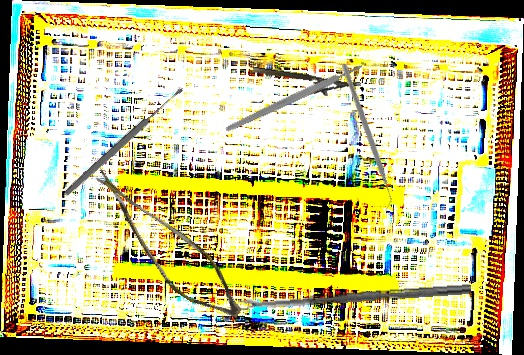Chopper: (288, 63, 442, 212)
Micro Scissor: (66, 168, 263, 328)
Needle Holder: (250, 65, 361, 104)
Scalpel Handle: (224, 62, 364, 134)
Surgical Spoon: (62, 85, 186, 198), (237, 282, 472, 311)
